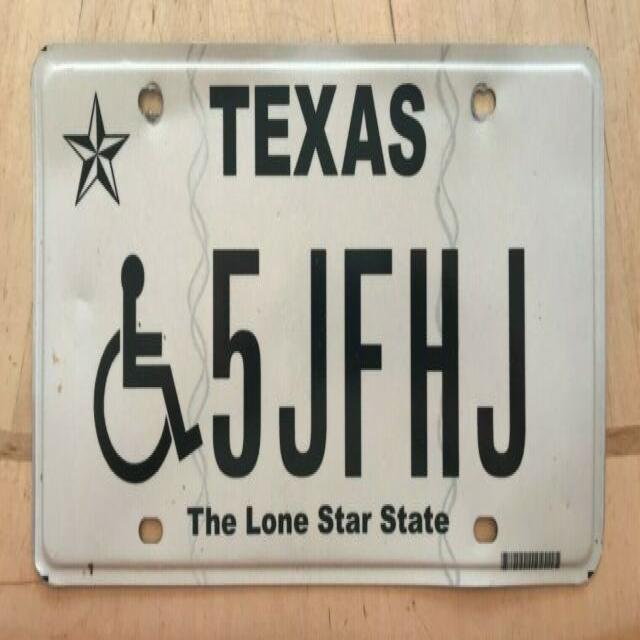symbol_of_access: (95, 250, 203, 488)
